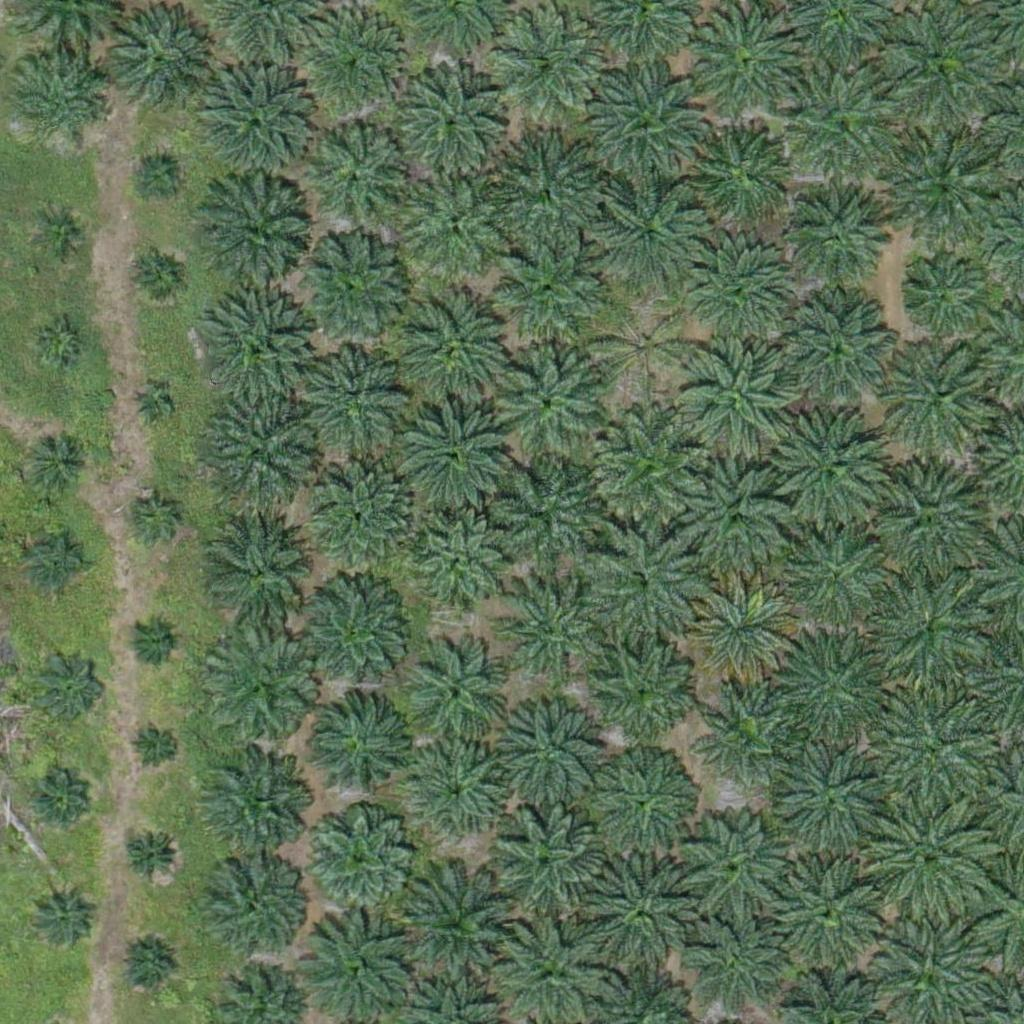Kelapa_Sawit: (399, 864, 524, 990), (882, 128, 1007, 254), (866, 569, 991, 695), (872, 688, 997, 814), (384, 54, 509, 180), (866, 791, 991, 916), (883, 340, 996, 454), (687, 3, 800, 117), (782, 293, 895, 407), (302, 802, 415, 916), (206, 634, 319, 748), (585, 857, 698, 970), (869, 465, 982, 578), (770, 410, 883, 523), (99, 4, 212, 117), (203, 293, 316, 406), (204, 395, 317, 508), (204, 510, 317, 623), (291, 4, 404, 117), (400, 165, 513, 278), (487, 458, 600, 571), (495, 350, 608, 463), (491, 233, 604, 346), (485, 135, 598, 248), (591, 411, 704, 524), (785, 63, 898, 176), (685, 576, 798, 689), (682, 809, 795, 922), (587, 529, 700, 642), (583, 634, 696, 747), (296, 579, 409, 692), (491, 4, 603, 118), (591, 64, 703, 178), (686, 241, 798, 355), (199, 753, 311, 867), (884, 8, 996, 121), (782, 520, 894, 633), (772, 629, 884, 742), (772, 740, 884, 853), (771, 852, 883, 965), (201, 70, 313, 183), (201, 182, 313, 295), (298, 231, 410, 344), (305, 116, 417, 229), (403, 289, 515, 402), (399, 396, 511, 509), (593, 176, 705, 289), (678, 460, 790, 573), (679, 338, 791, 451), (495, 574, 607, 687), (491, 806, 603, 919), (594, 298, 694, 399), (314, 462, 414, 563), (310, 348, 410, 449), (411, 516, 511, 617), (593, 754, 693, 855), (500, 699, 600, 800), (408, 648, 508, 749), (205, 851, 305, 952), (689, 125, 789, 225), (788, 183, 888, 283), (409, 741, 509, 841), (313, 695, 413, 795), (703, 691, 790, 780), (690, 923, 777, 1011), (15, 55, 102, 143), (902, 259, 977, 335), (33, 647, 108, 722), (29, 774, 92, 837), (119, 824, 182, 887), (29, 434, 91, 497), (28, 531, 90, 594), (30, 885, 92, 948), (116, 936, 178, 999), (131, 491, 181, 542), (127, 615, 177, 666), (35, 319, 85, 369), (36, 210, 86, 260), (131, 723, 181, 773), (133, 151, 183, 201), (134, 254, 184, 304), (133, 386, 171, 424)
